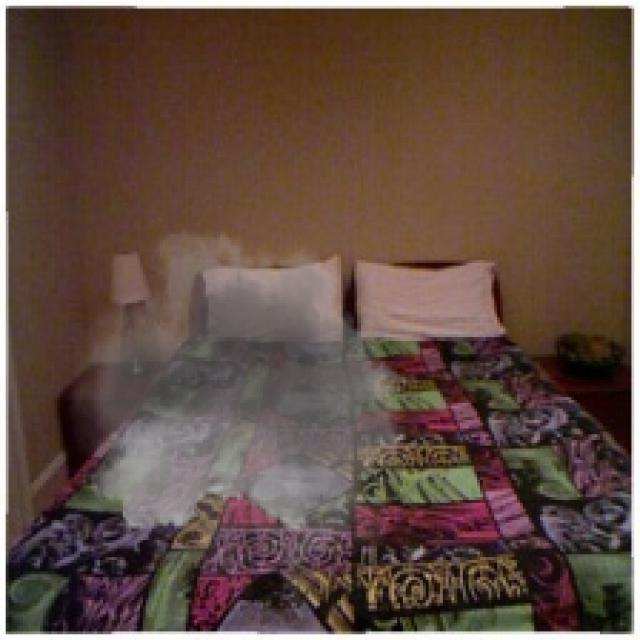Smoke: (68, 212, 420, 612)
